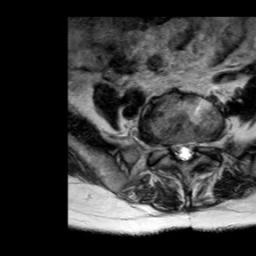CCS_normal: (180, 131, 188, 167)
LFS_stenosis: (196, 130, 205, 159)
LLS_normal: (188, 132, 196, 164)
RFS_severe_stenosis: (163, 133, 171, 160)
RLS_normal: (171, 134, 180, 167)
